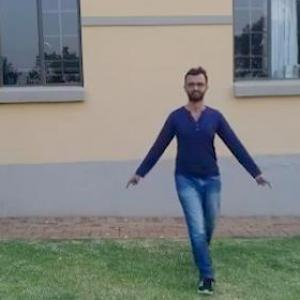land: (134, 75, 255, 258)
